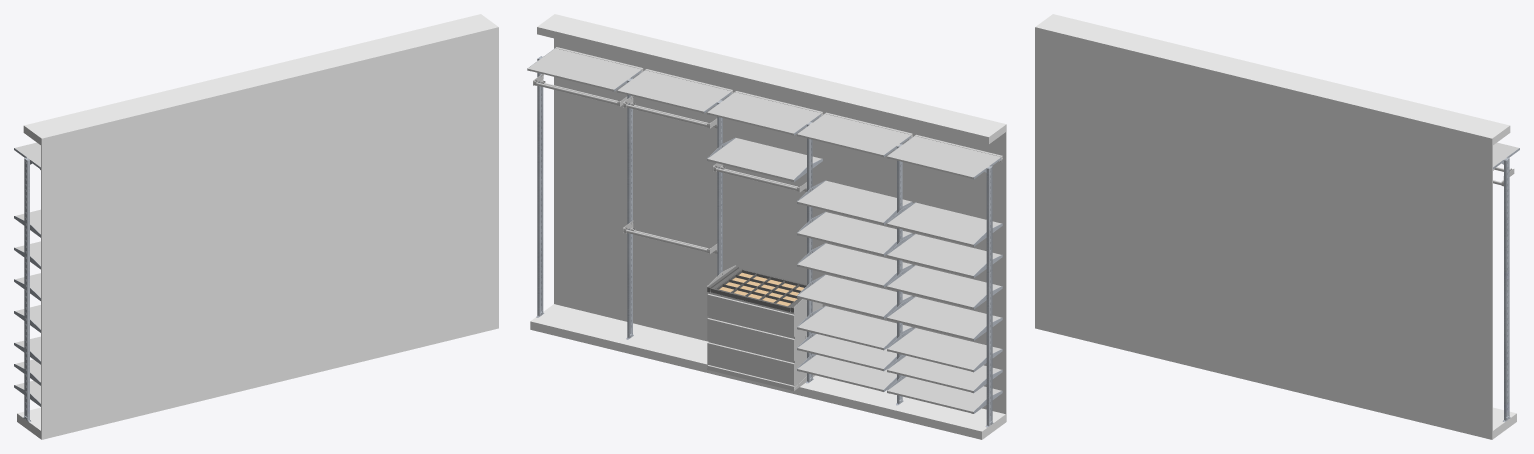
The picture shows the model from 3 angles, left to right: view 1: azimuth 30°, elevation 25°; view 2: azimuth 150°, elevation 25°; view 3: azimuth 330°, elevation 25°; orthographic projection.
Parts seen in each view (by area): view 1: Geom3D_, Geom3D_组件#2; view 2: Geom3D_, Geom3D_组件#15_木层板（中间） copy 001 (×15), Geom3D_组件#16 (×5), Geom3D_组件#4_柜子 copy 002, Geom3D_组件#2 (×6), Geom3D (×2), Geom3D_组件#11_双衣杆 copy 002 (×4); view 3: Geom3D_, Geom3D_组件#2.
Part boxes in pixels (left/top/right/bottom): Geom3D_: left=17, top=14, right=498, bottom=439; Geom3D_组件#2: left=23, top=157, right=30, bottom=421; Geom3D_: left=530, top=14, right=1006, bottom=439; Geom3D_组件#15_木层板（中间） copy 001 (×15): left=707, top=138, right=1001, bottom=413; Geom3D_组件#16 (×5): left=527, top=47, right=1002, bottom=178; Geom3D_组件#4_柜子 copy 002: left=707, top=292, right=822, bottom=390; Geom3D_组件#2 (×6): left=536, top=56, right=993, bottom=427; Geom3D (×2): left=707, top=266, right=806, bottom=312; Geom3D_组件#11_双衣杆 copy 002 (×4): left=533, top=74, right=806, bottom=253; Geom3D_: left=1035, top=14, right=1516, bottom=439; Geom3D_组件#2: left=1503, top=157, right=1510, bottom=421.
Bounding box in the file's own units: 4.53 × 2.85 × 0.5216.
Materials: 4 (1 with a texture image).
